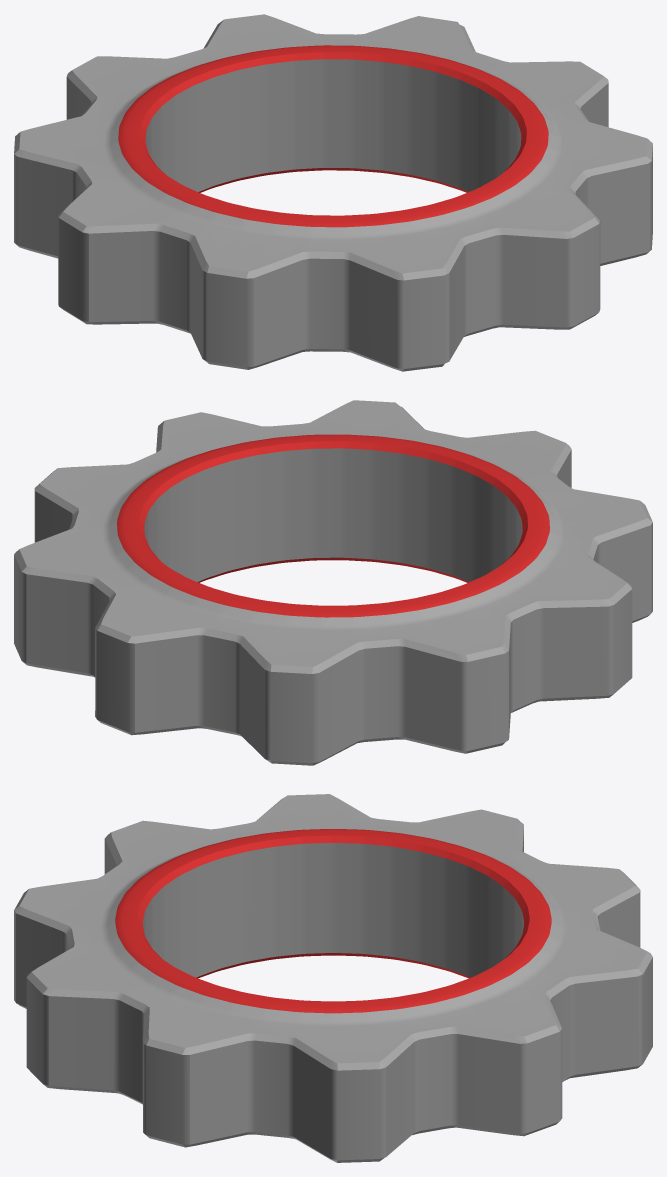
The model's file is gear.fbx.
The picture shows the model from 3 angles, top to bottom: view 1: azimuth 30°, elevation 25°; view 2: azimuth 150°, elevation 25°; view 3: azimuth 270°, elevation 25°; orthographic projection.
Visible parts, largest first — view 1: gear; view 2: gear; view 3: gear.
Part boxes in pixels (left/top/right/bottom): gear: left=14, top=14, right=652, bottom=371; gear: left=14, top=400, right=652, bottom=765; gear: left=14, top=794, right=652, bottom=1162.
Bounding box in the file's own units: 5.53 × 1.13 × 5.45.
1 material, 1 textured.
